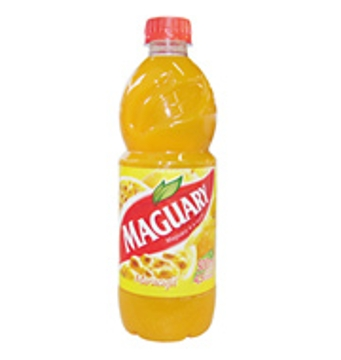maguary: (106, 8, 228, 354)
